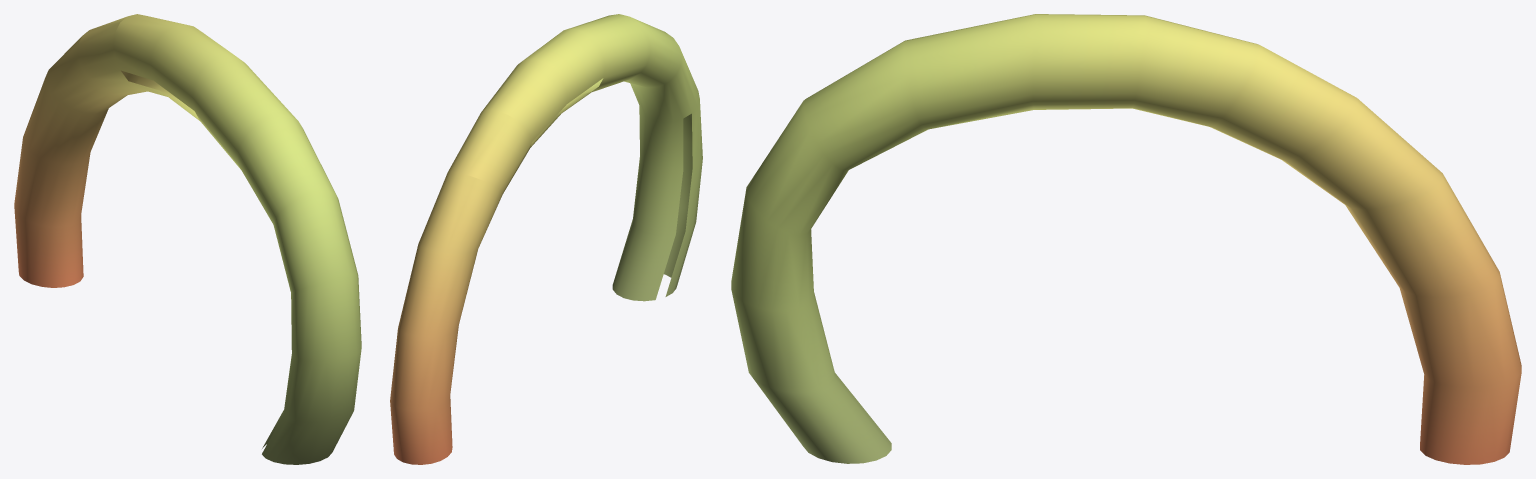
Rendered from Cable01a.fbx.
The picture shows the model from 3 angles, left to right: view 1: azimuth 30°, elevation 25°; view 2: azimuth 150°, elevation 25°; view 3: azimuth 270°, elevation 25°; orthographic projection. The views are drawn at different scales.
Visible parts, largest first — view 1: polySurface3; view 2: polySurface3; view 3: polySurface3.
Part boxes in pixels (bbox=[...]): polySurface3: bbox=[14, 14, 361, 464]; polySurface3: bbox=[390, 14, 702, 464]; polySurface3: bbox=[731, 14, 1521, 464].
Size of the model in its own units: 0.3379 by 1.67 by 2.78.
